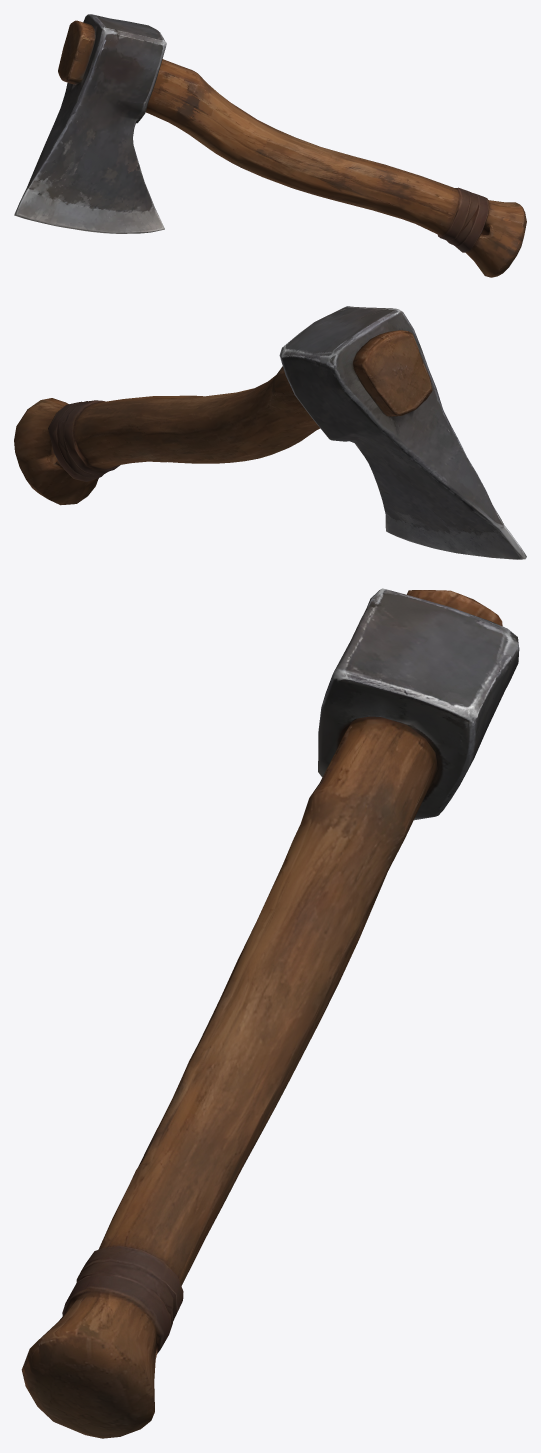
File: hacha-orm.glb
The picture shows the model from 3 angles, top to bottom: view 1: azimuth 30°, elevation 25°; view 2: azimuth 150°, elevation 25°; view 3: azimuth 270°, elevation 25°; orthographic projection. The views are drawn at different scales.
Parts seen in each view (by area): view 1: tripo_node_002bcaeb-17b0-4547-af54-907cbc5f2db4; view 2: tripo_node_002bcaeb-17b0-4547-af54-907cbc5f2db4; view 3: tripo_node_002bcaeb-17b0-4547-af54-907cbc5f2db4.
Part boxes in pixels (x1,y1,x2,y2): tripo_node_002bcaeb-17b0-4547-af54-907cbc5f2db4: [14, 14, 526, 277]; tripo_node_002bcaeb-17b0-4547-af54-907cbc5f2db4: [14, 306, 526, 559]; tripo_node_002bcaeb-17b0-4547-af54-907cbc5f2db4: [21, 588, 519, 1438].
Size of the model in its own units: 0.9795 by 0.5772 by 0.4796.
Materials: 1 (1 with a texture image).
